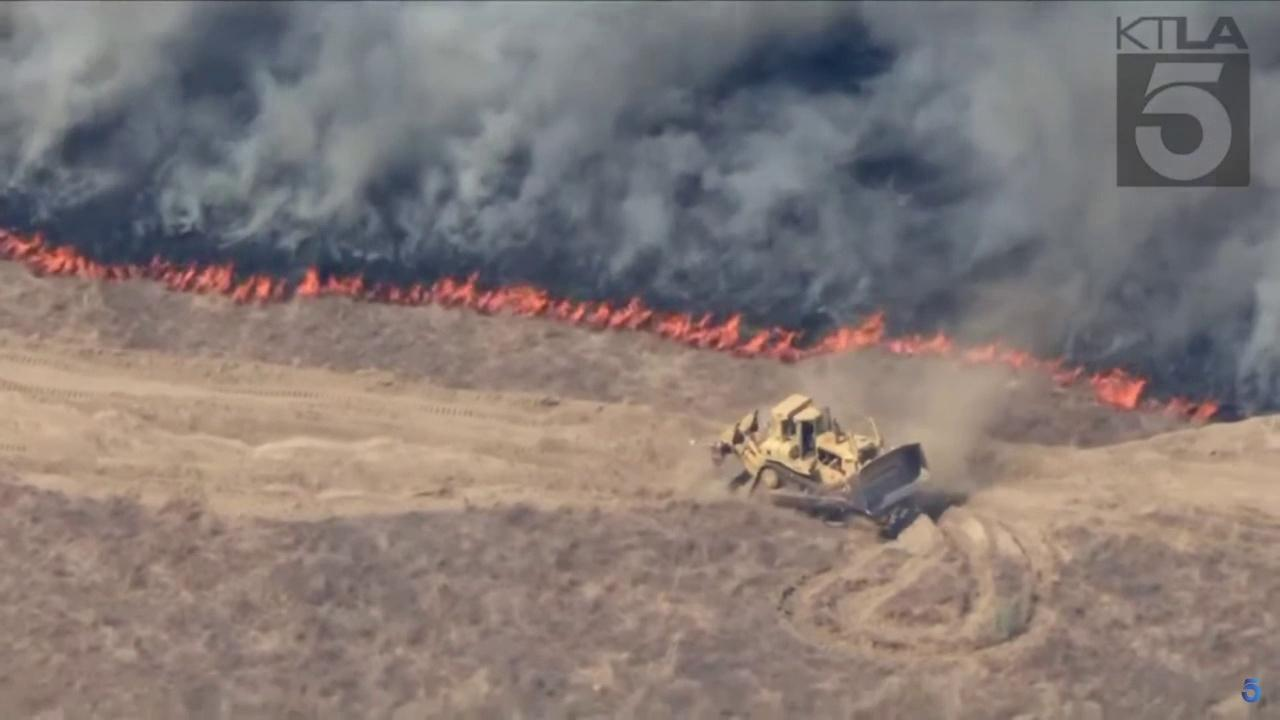fire: (0, 222, 1088, 383), (1091, 362, 1148, 415), (1156, 392, 1220, 424)
smoke: (0, 0, 1280, 411)
